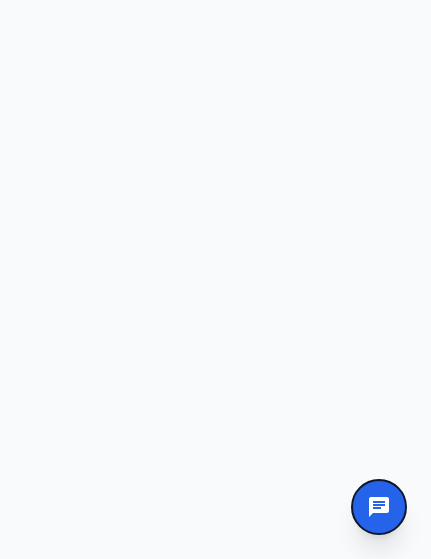
it: ElonChatWidget Component (TDD Suite) › toggles open the Chat with ELON dialog when floating launcher is clicked
This screenshot has width=431, height=559.
Note: Open chat
Click the button with test id "elon-fab-button" at (379, 507), box [351, 479, 407, 535]
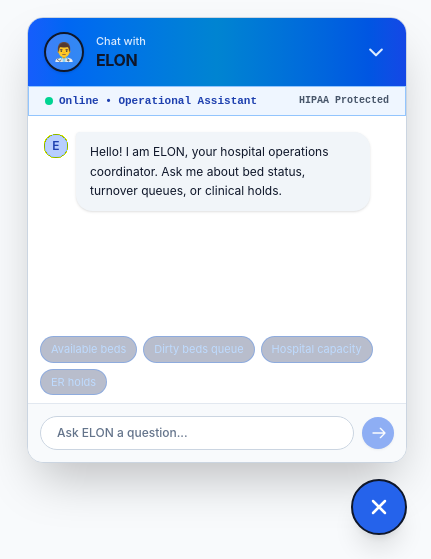
Expected: the element with test id "elon-chat-dialog" is shown
Expected: the text "Chat with" is shown, [96, 33, 146, 50]
Expected: the text "ELON" is shown, [96, 50, 137, 70]
Note: Close chat via FAB
Click the button with test id "elon-fab-button" at (379, 507), box [351, 479, 407, 535]
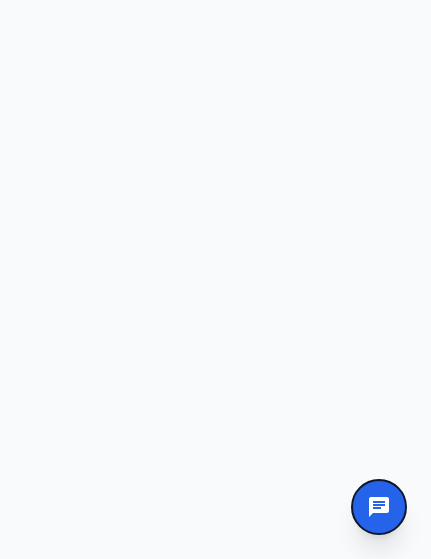
Expected: the element with test id "elon-chat-dialog" is gone
